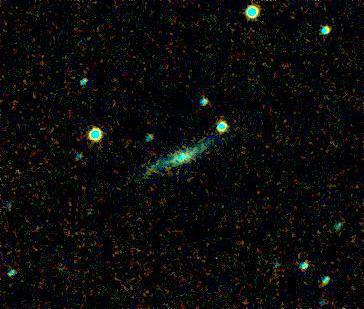star: (74, 197, 104, 227)
